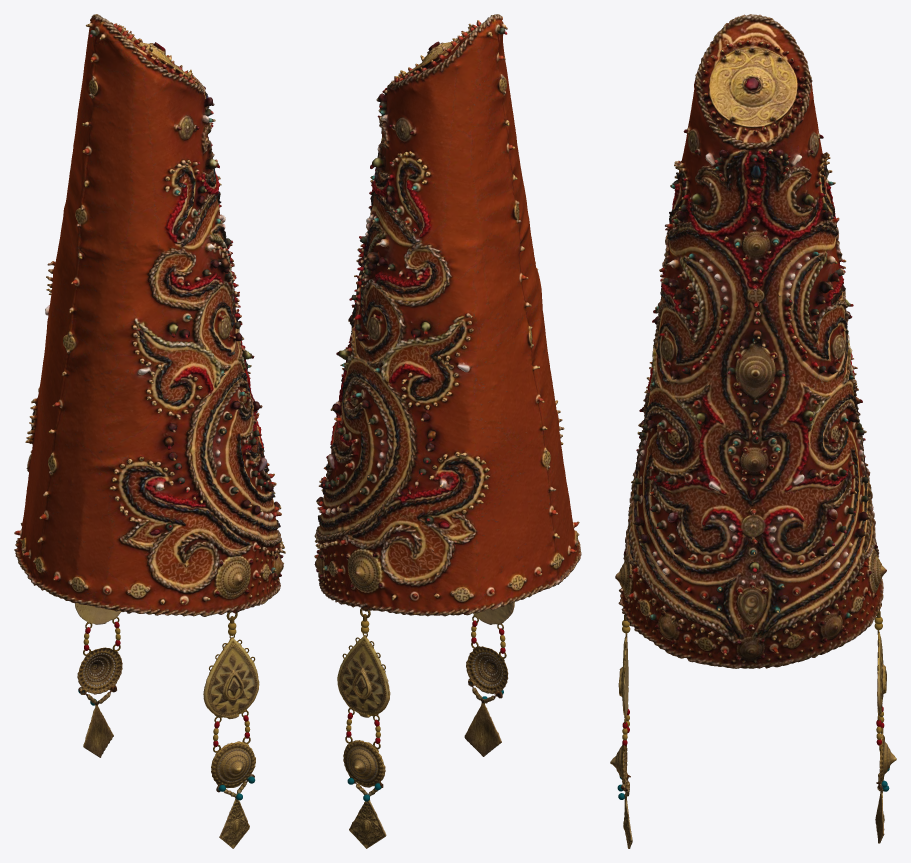
The model's file is saukele_ethno_variant_traditional_headdress.glb.
3 renders of one model, left to right at view 1: azimuth 30°, elevation 25°; view 2: azimuth 150°, elevation 25°; view 3: azimuth 270°, elevation 25°, orthographic.
Size of the model in its own units: 3.87 by 12.64 by 4.1.
8 materials, 3 textured.
